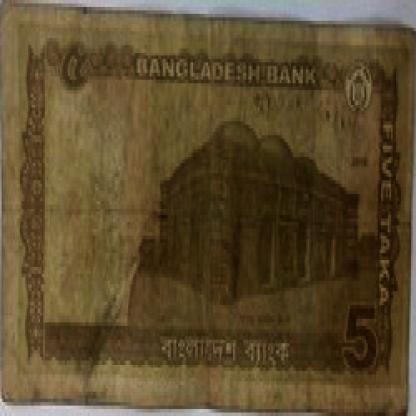Five Taka: (331, 284, 391, 402), (53, 31, 97, 111)
